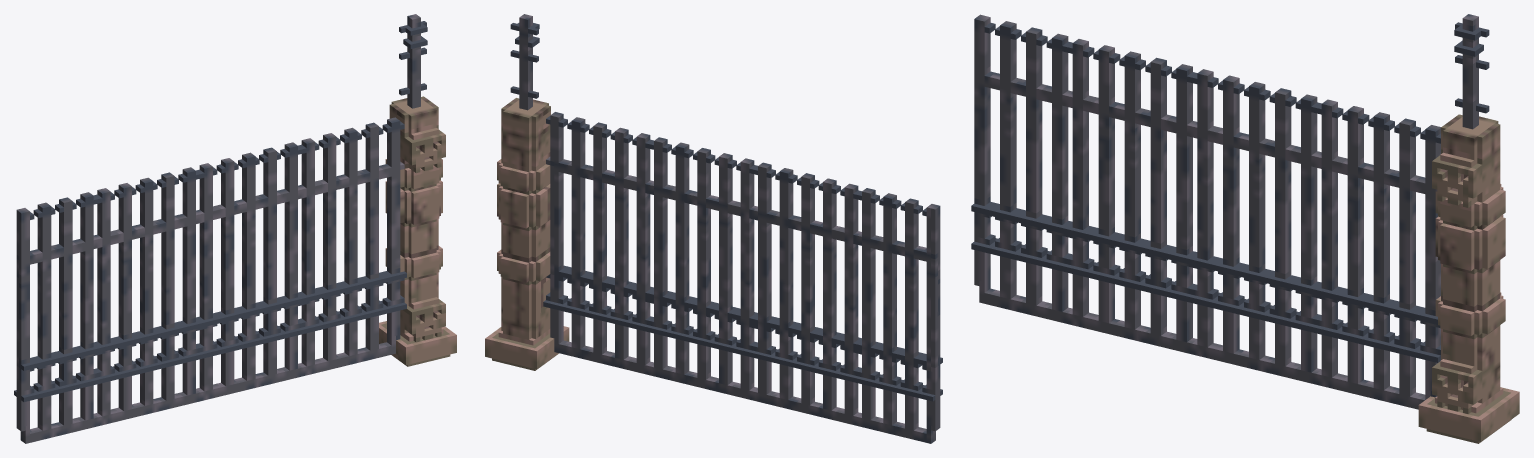
File: Entrace_Fence-0.fbx
The picture shows the model from 3 angles, left to right: view 1: azimuth 30°, elevation 25°; view 2: azimuth 150°, elevation 25°; view 3: azimuth 330°, elevation 25°; orthographic projection. The views are drawn at different scales.
Parts seen in each view (by area): view 1: Entrace_Fence-0; view 2: Entrace_Fence-0; view 3: Entrace_Fence-0.
Boxes of the visible parts, x1,y1,x2,y2 form: Entrace_Fence-0: [14, 14, 456, 443]; Entrace_Fence-0: [485, 14, 942, 443]; Entrace_Fence-0: [971, 14, 1519, 443].
Size of the model in its own units: 500 by 375 by 65.
